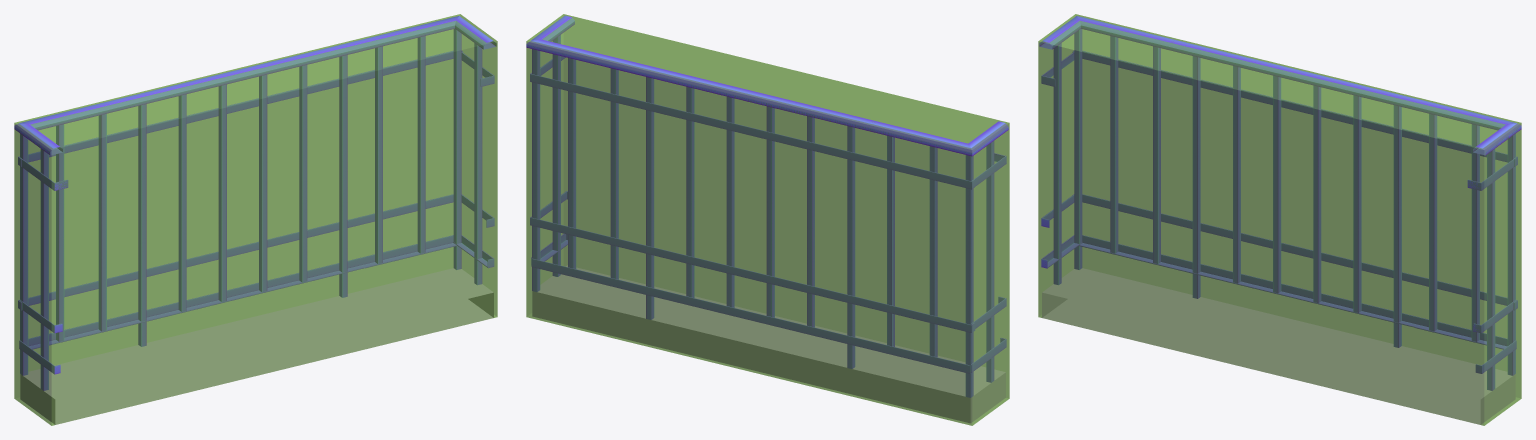
The model's file is F_Balcony_S_02.fbx.
The picture shows the model from 3 angles, left to right: view 1: azimuth 30°, elevation 25°; view 2: azimuth 150°, elevation 25°; view 3: azimuth 330°, elevation 25°; orthographic projection.
Visible parts, largest first — view 1: F_Balcony_S_02_col_01, F_Balcony_S_02_LOD0; view 2: F_Balcony_S_02_col_01, F_Balcony_S_02_LOD0; view 3: F_Balcony_S_02_col_01, F_Balcony_S_02_LOD0.
Part boxes in pixels (bbox=[...]): F_Balcony_S_02_col_01: bbox=[14, 14, 497, 425]; F_Balcony_S_02_LOD0: bbox=[14, 16, 496, 424]; F_Balcony_S_02_col_01: bbox=[526, 14, 1009, 425]; F_Balcony_S_02_LOD0: bbox=[526, 15, 1008, 423]; F_Balcony_S_02_col_01: bbox=[1038, 14, 1521, 425]; F_Balcony_S_02_LOD0: bbox=[1039, 16, 1521, 424].
Size of what is drawn, in the model's own units: 183 by 108 by 26.54.
